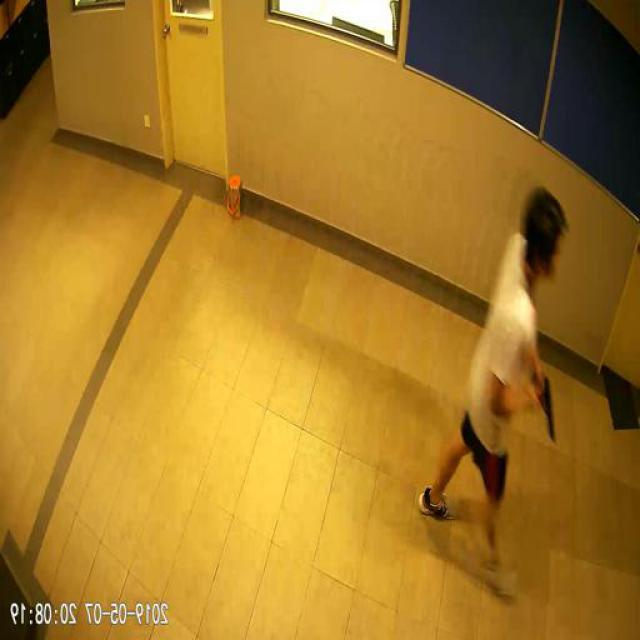Gun: (531, 371, 560, 441)
